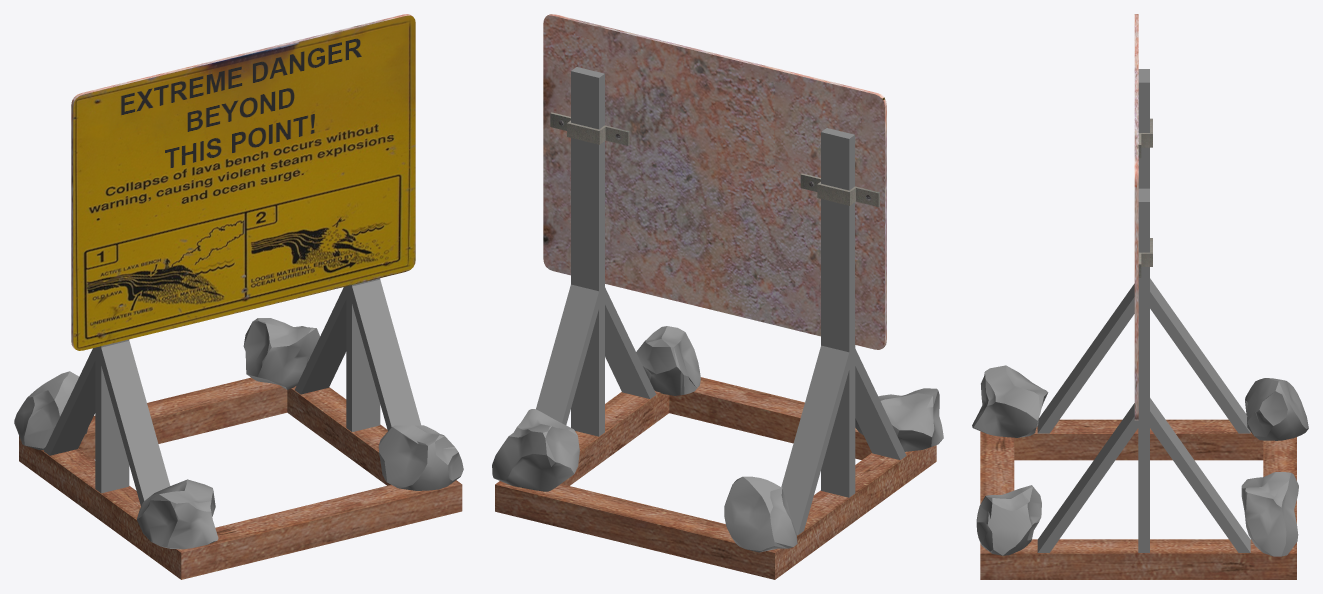
Rendered from Lava_sign.FBX.
3 renders of one model, left to right at view 1: azimuth 30°, elevation 25°; view 2: azimuth 150°, elevation 25°; view 3: azimuth 270°, elevation 25°, orthographic. The views are drawn at different scales.
Parts seen in each view (by area): view 1: Lava_sign; view 2: Lava_sign; view 3: Lava_sign.
Boxes of the visible parts, box(x1,y1,x2,y2) form: Lava_sign: box(14, 14, 463, 579); Lava_sign: box(492, 14, 943, 579); Lava_sign: box(972, 14, 1308, 579).
Bounding box in the file's own units: 259 × 312 × 226.
